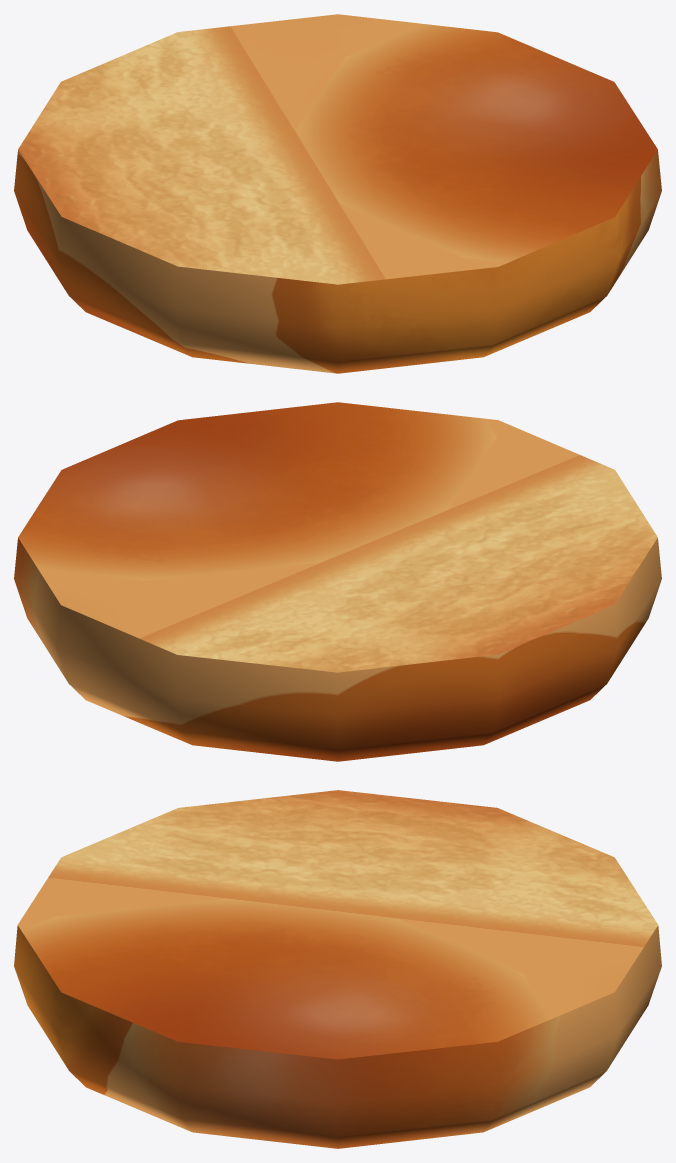
The model's file is Bun_Hamburger_Half_02.fbx.
3 renders of one model, top to bottom at view 1: azimuth 30°, elevation 25°; view 2: azimuth 150°, elevation 25°; view 3: azimuth 270°, elevation 25°, orthographic.
Visible parts, largest first — view 1: Bun_Hamburger_Half_02; view 2: Bun_Hamburger_Half_02; view 3: Bun_Hamburger_Half_02.
Boxes of the visible parts, <box> form: Bun_Hamburger_Half_02: <box>14,14,661,373</box>; Bun_Hamburger_Half_02: <box>14,402,661,761</box>; Bun_Hamburger_Half_02: <box>14,790,661,1148</box>.
Bounding box in the file's own units: 32.12 × 5.55 × 32.2.
